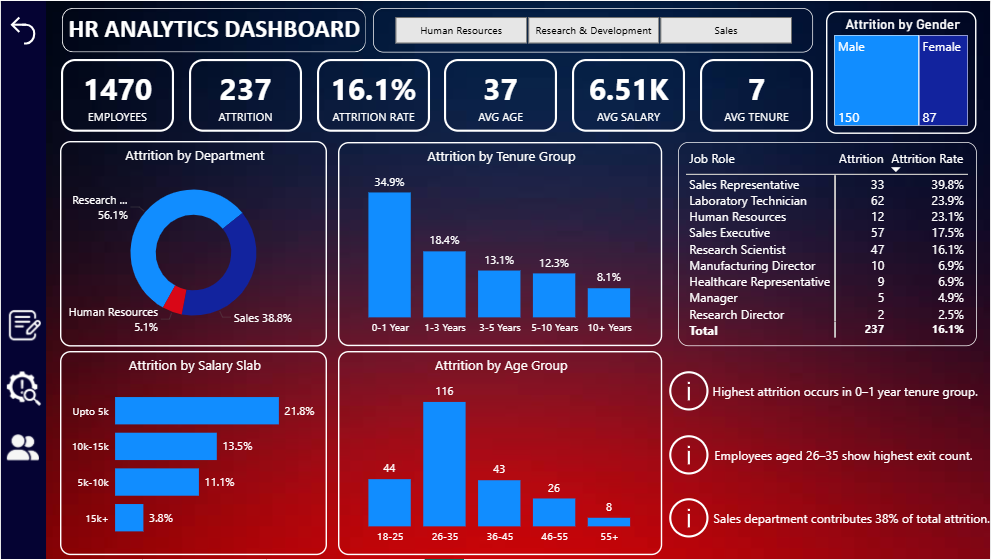

Layout of this report page (visuals, bound fields, positions):
{"tool":"powerbi","page":{"name":"Executive Summary","canvas":[1400,790],"ordinal":0},"visuals":[{"type":"shape","box":[0,0,63.8,790],"z":0},{"type":"actionButton","box":[5.8,422.3,56.4,73.8],"z":0,"group":"g1"},{"type":"donutChart","title":"Attrition by Department","fields":{"Y":["Measure Table.Total Attrition"],"Category":["HR Analytics.Department"]},"box":[84,197.5,377.9,290.8],"z":1000},{"type":"actionButton","box":[2.9,512,59.3,75.2],"z":1000,"group":"g1"},{"type":"clusteredColumnChart","title":"Attrition by Tenure Group","fields":{"Category":["HR Analytics.Tenure Group"],"Y":["Measure Table.Attrition Rate %"]},"box":[477.4,199.1,458.8,289.3],"z":2000},{"type":"actionButton","box":[4.3,603.1,53.5,57.8],"z":2000,"group":"g1"},{"type":"clusteredColumnChart","title":"Attrition by Age Group","fields":{"Category":["HR Analytics.Age Group"],"Y":["Measure Table.Total Attrition"]},"box":[477.4,496.1,458.8,289.3],"z":3000},{"type":"clusteredBarChart","title":"Attrition by Salary Slab","fields":{"Category":["HR Analytics.Salary Slab"],"Y":["Measure Table.Attrition Rate %"]},"box":[84,496.1,377.9,289.3],"z":4000},{"type":"card","fields":{"Values":["Measure Table.Total Employees"]},"box":[85.5,82.4,160.2,102.6],"z":5000},{"type":"pivotTable","fields":{"Rows":["HR Analytics.Job Role"],"Values":["Measure Table.Total Attrition","Measure Table.Attrition Rate %"]},"box":[958,199.1,423,289.3],"z":6000},{"type":"textbox","title":"HR ANALYTICS DASHBOARD","box":[87.6,17.2,428.6,50.1],"z":7000},{"type":"shape","title":"HR","box":[86,9.4,430.2,62.6],"z":8000},{"type":"treemap","title":"Attrition by Gender","fields":{"Values":["Measure Table.Total Attrition"],"Group":["HR Analytics.Gender"]},"box":[1167.9,14,213.1,174.2],"z":9000},{"type":"slicer","fields":{"Values":["HR Analytics.Department"]},"box":[527.2,9.4,622.6,62.6],"z":10000},{"type":"card","fields":{"Values":["Measure Table.Total Attrition"]},"box":[266.2,82.4,160.2,102.6],"z":11000},{"type":"card","fields":{"Values":["Measure Table.Attrition Rate %"]},"box":[446.9,82.4,160.2,102.6],"z":12000},{"type":"card","fields":{"Values":["Measure Table.Average Age"]},"box":[627.6,82.4,160.2,102.6],"z":13000},{"type":"card","fields":{"Values":["Measure Table.Average Salary"]},"box":[808.4,82.4,160.2,102.6],"z":14000},{"type":"card","fields":{"Values":["Measure Table.Avg Years at Company"]},"box":[989.1,82.4,160.2,102.6],"z":15000},{"type":"actionButton","box":[938.5,516.2,447.4,70.4],"z":16000},{"type":"actionButton","box":[938.5,696.1,461.5,70.4],"z":17000},{"type":"actionButton","box":[938.5,606.9,445.8,70.4],"z":18000},{"type":"actionButton","box":[6.2,14,51.3,56],"z":19000},{"type":"group","id":"g1","title":"Side Buttons","box":[2.9,422.3,59.3,238.6],"z":20000}]}

Visuals, with their boxes in screenshot pixels (x1, y1, x2, y2), scaled from the page's 1400x790 canvas onto the 991x560 screenshot:
shape: 0:0:45:559
actionButton: 4:299:44:352
"Attrition by Department" donutChart: 59:140:327:346
actionButton: 2:363:44:416
"Attrition by Tenure Group" clusteredColumnChart: 338:141:663:346
actionButton: 3:428:41:468
"Attrition by Age Group" clusteredColumnChart: 338:352:663:557
"Attrition by Salary Slab" clusteredBarChart: 59:352:327:557
card - Measure Table.Total Employees: 61:58:174:131
pivotTable - HR Analytics.Job Role x Measure Table.Total Attrition: 678:141:978:346
"HR ANALYTICS DASHBOARD" textbox: 62:12:365:48
"HR" shape: 61:7:365:51
"Attrition by Gender" treemap: 827:10:978:133
slicer - HR Analytics.Department: 373:7:814:51
card - Measure Table.Total Attrition: 188:58:302:131
card - Measure Table.Attrition Rate %: 316:58:430:131
card - Measure Table.Average Age: 444:58:558:131
card - Measure Table.Average Salary: 572:58:686:131
card - Measure Table.Avg Years at Company: 700:58:814:131
actionButton: 664:366:981:416
actionButton: 664:493:990:543
actionButton: 664:430:980:480
actionButton: 4:10:41:50
"Side Buttons" group: 2:299:44:468
